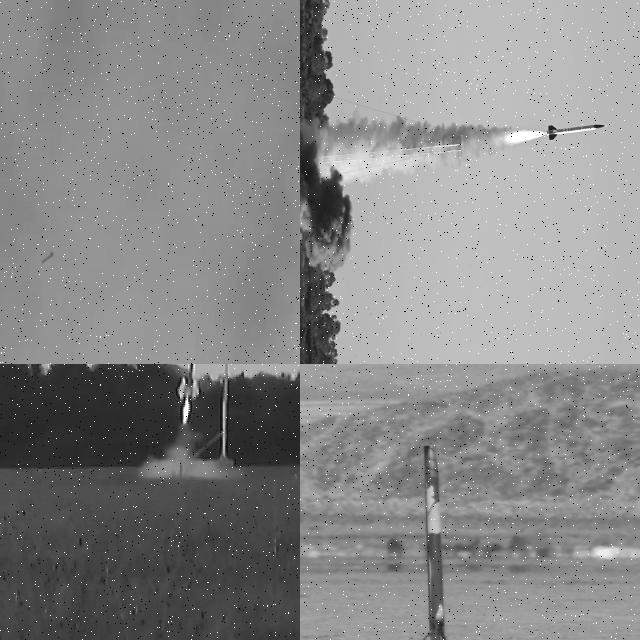Rocket: (414, 441, 453, 640), (174, 364, 202, 401), (547, 124, 605, 140), (42, 251, 53, 264)
